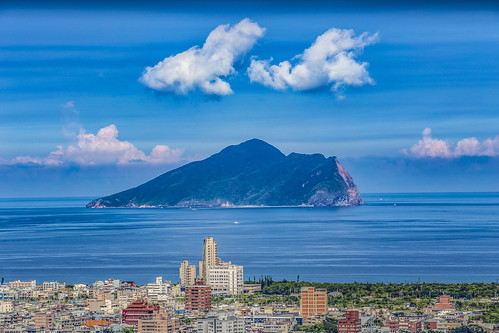turtleIsland: (84, 134, 368, 207)
